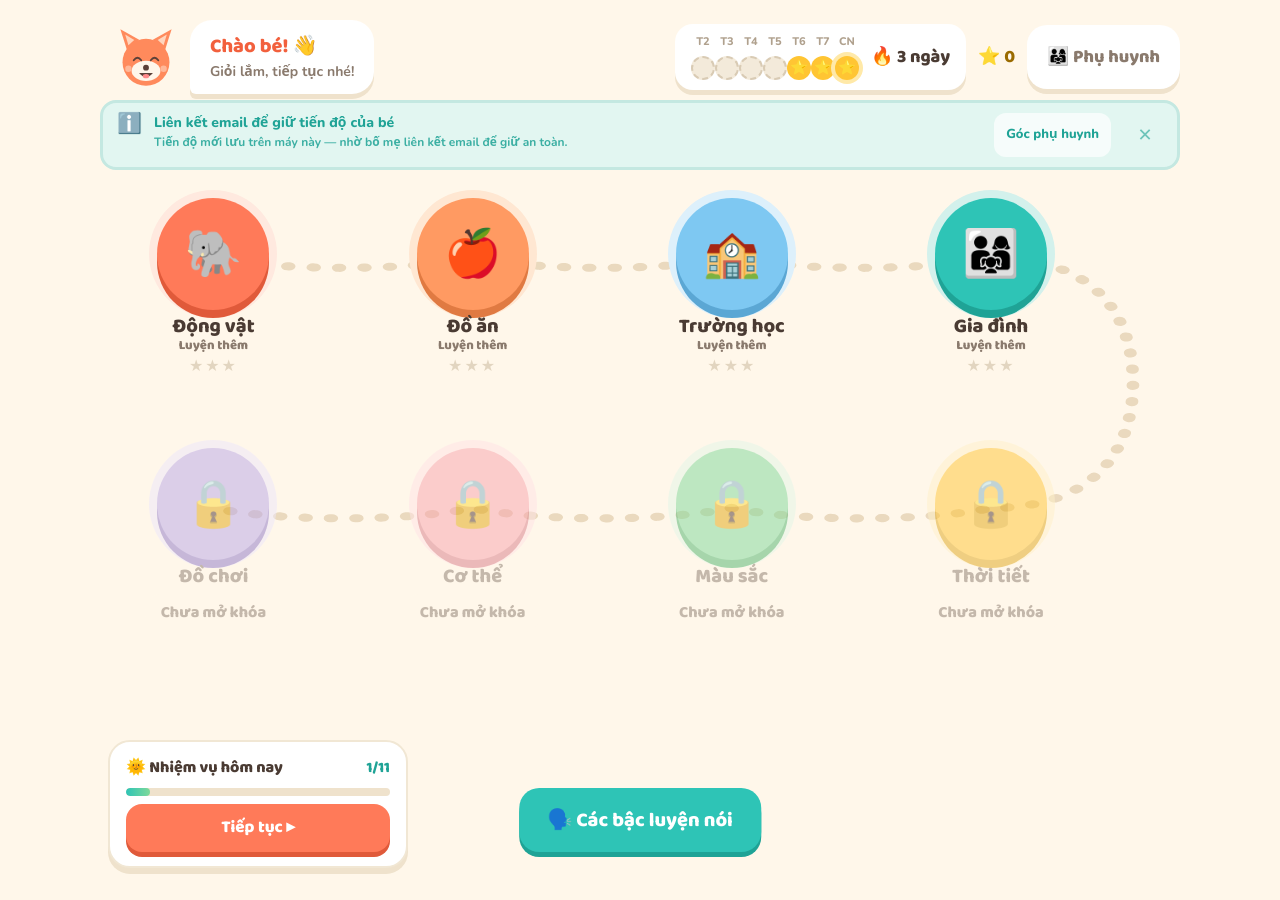
Test case: Phase 11: the milestone banner › appears after a 3-day streak on a device nobody has linked yet, and can be dismissed
The image size is (1280, 900).
Check: the message with test id "milestone-banner" shows "Liên kết email để giữ tiến độ của bé", box [154,113,394,132]
Check: the message with test id "milestone-banner" shows "Tiến độ mới lưu trên máy này", box [154,134,568,150]
Click the button named "Đóng": (1145, 135) [1123,113,1167,157]
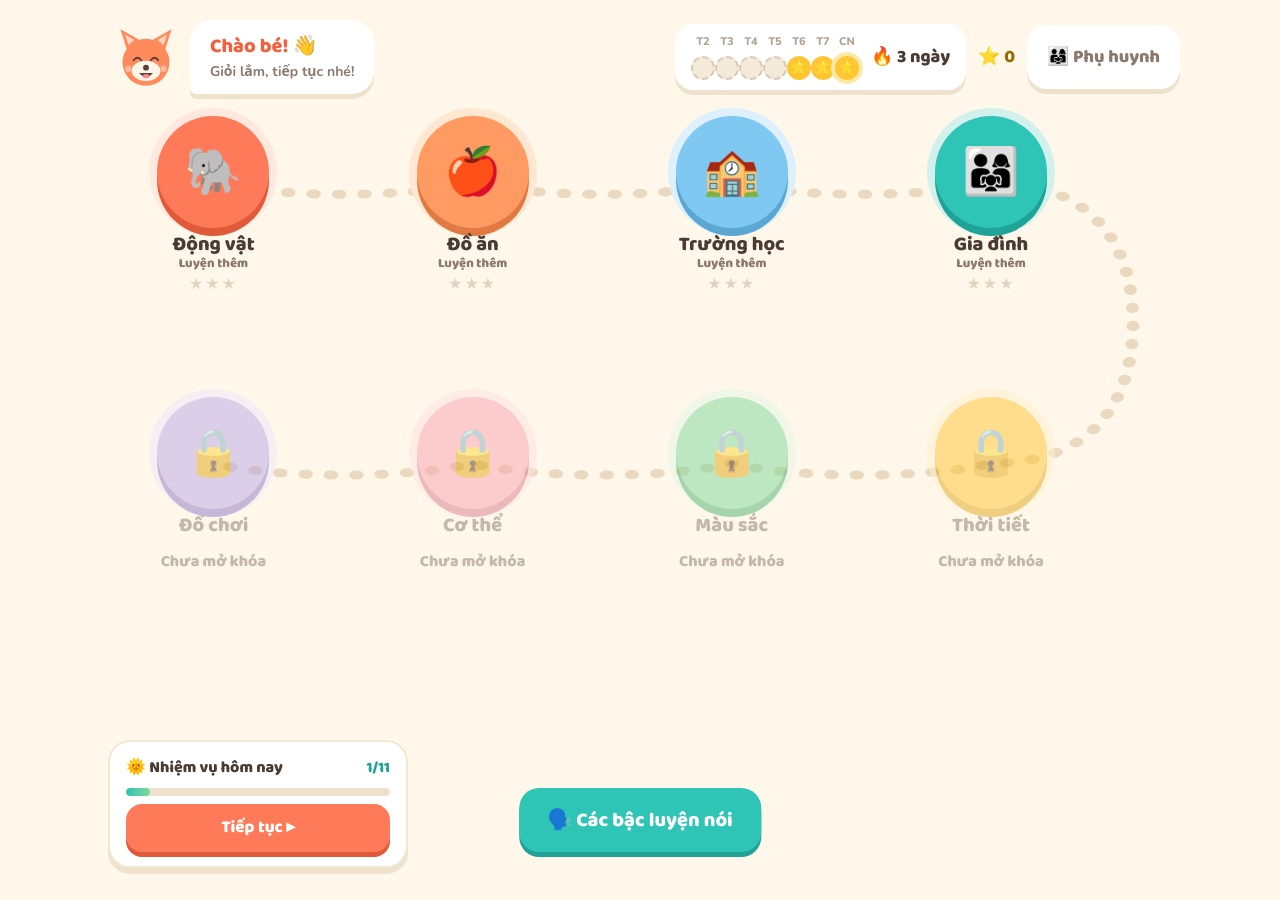
Check: the message with test id "milestone-banner" is gone
